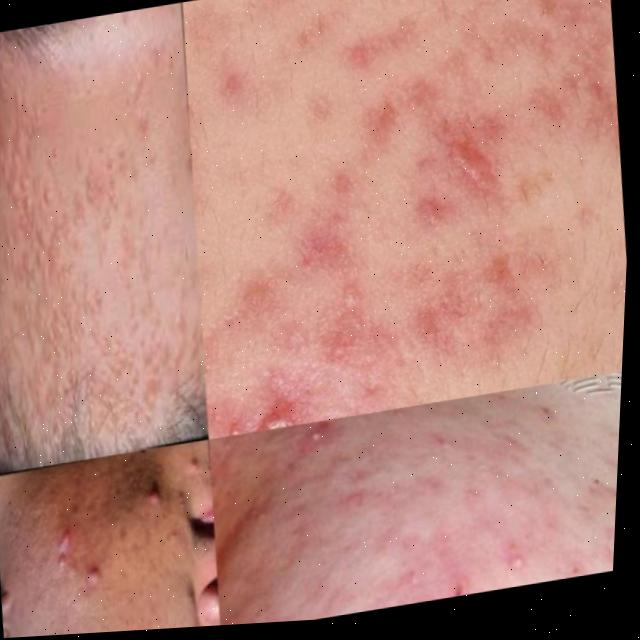Acne: (223, 0, 640, 390), (294, 387, 621, 606), (0, 68, 193, 297), (36, 513, 113, 600)
